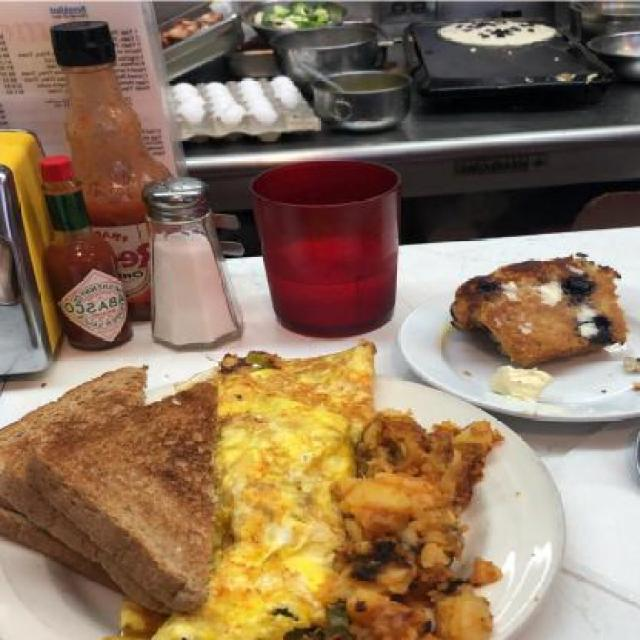french toast: (1, 362, 216, 616)
omelette: (198, 340, 374, 634)
pancakes: (431, 12, 560, 48)
